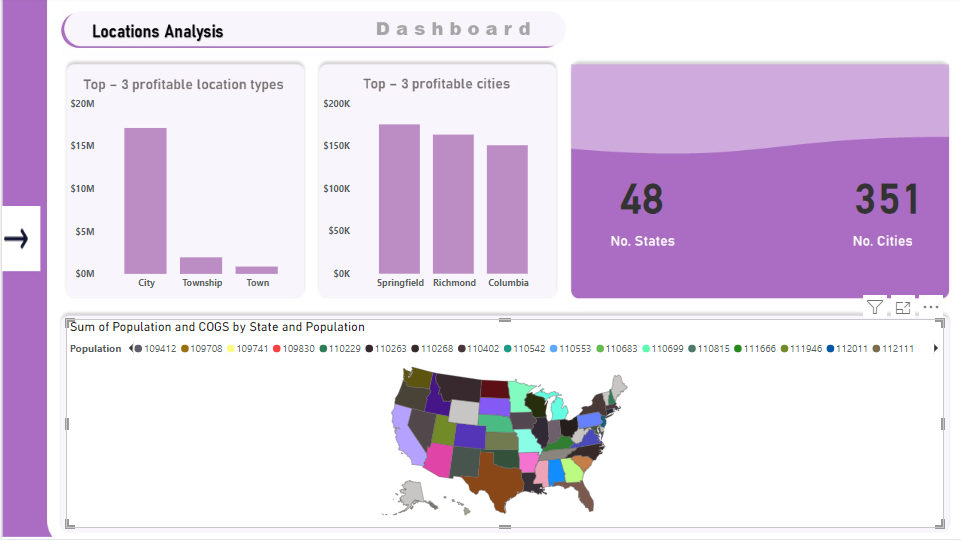

The page's visual inventory and layout, read from the dashboard file:
{"tool":"powerbi","page":{"name":"Store Locations","canvas":[1280,720],"ordinal":3},"visuals":[{"type":"clusteredColumnChart","fields":{"Y":["measure-first (2).Profit margin"],"Category":["Dim_StoreLocations.Type"]},"box":[85.7,127.7,319.2,270.4],"z":0},{"type":"clusteredColumnChart","fields":{"Category":["Dim_StoreLocations.City Name"],"Y":["measure-first (2).Profit margin"]},"box":[421.6,127.6,314.2,270.1],"z":1000},{"type":"card","fields":{"Values":["measure-first (2).# cities"]},"box":[1105.7,210,145.7,102.9],"z":2000},{"type":"card","fields":{"Values":["measure-first (2).# states"]},"box":[778.6,217.1,142.9,88.6],"z":3000},{"type":"shapeMap","fields":{"Category":["Dim_StoreLocations.State"],"Series":["Dim_StoreLocations.Population"],"Value":["Sum(Dim_StoreLocations.Population)"]},"box":[85.7,428.6,1166.1,276.8],"z":4000},{"type":"actionButton","box":[0,277.8,51.1,86.7],"z":6000}]}

Visuals, with their boxes in screenshot pixels (x1, y1, x2, y2), scaled from the page's 1280x720 canvas onto the 961x540 screenshot:
clusteredColumnChart - measure-first (2).Profit margin x Dim_StoreLocations.Type: 64:96:304:299
clusteredColumnChart - Dim_StoreLocations.City Name x measure-first (2).Profit margin: 317:96:552:298
card - measure-first (2).# cities: 830:158:940:235
card - measure-first (2).# states: 585:163:692:229
shapeMap - Dim_StoreLocations.State x Dim_StoreLocations.Population: 64:321:940:529
actionButton: 0:208:38:273
